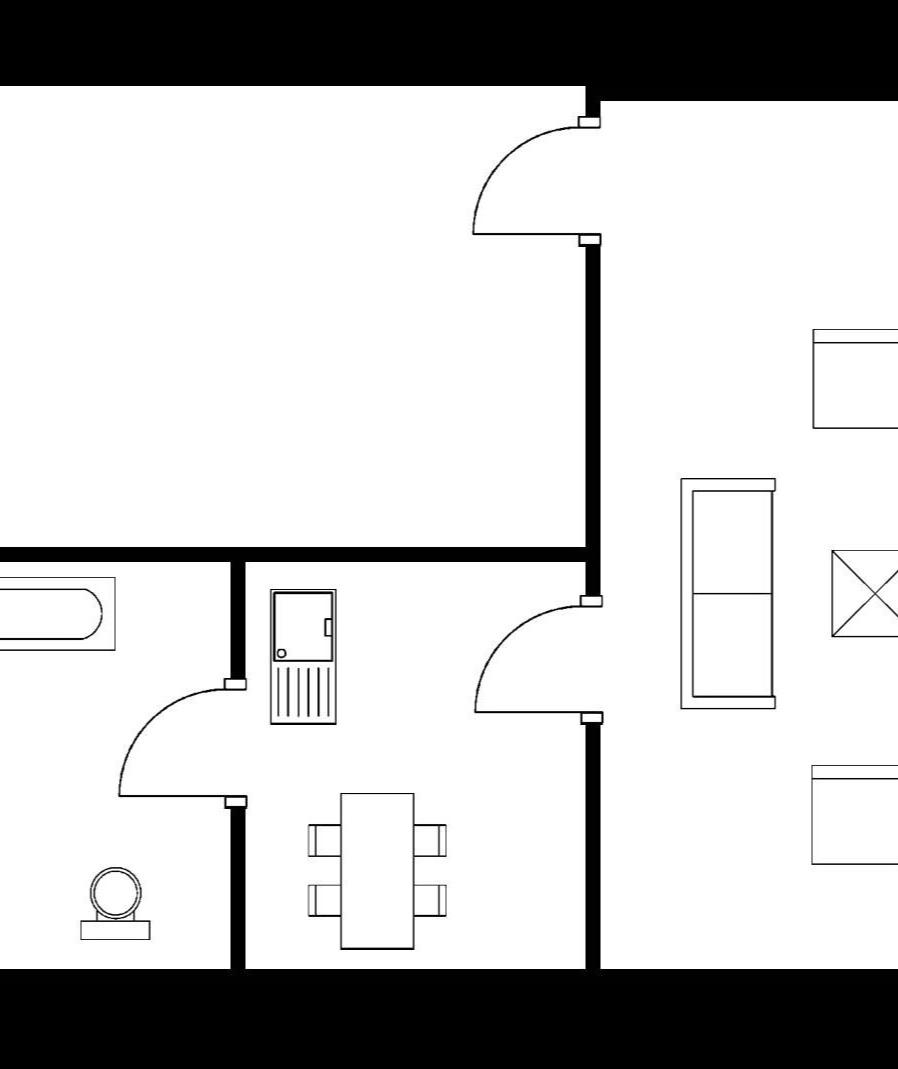dining_table: (300, 782, 451, 956)
sink: (264, 580, 341, 730)
sofa: (670, 471, 782, 718)
toilet: (78, 864, 158, 945)
tub: (0, 573, 120, 655)
